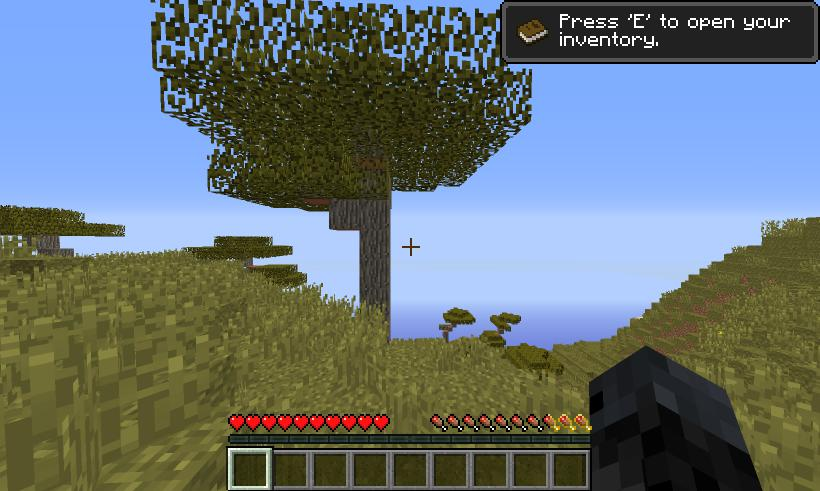minecraft-blocks: (332, 200, 392, 339)
